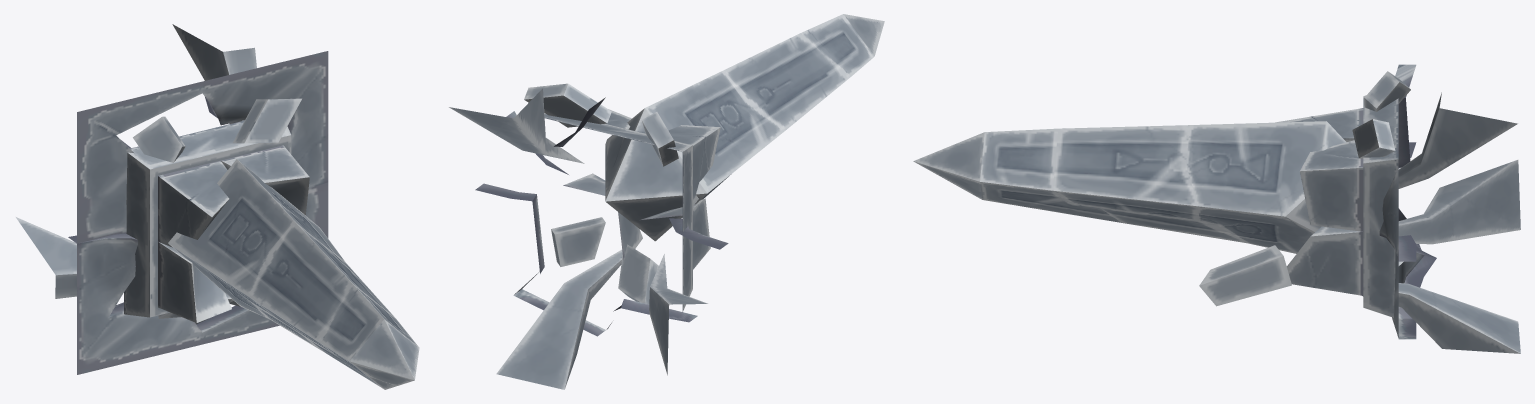
The model's file is obelisk_04.glb.
The picture shows the model from 3 angles, left to right: view 1: azimuth 30°, elevation 25°; view 2: azimuth 150°, elevation 25°; view 3: azimuth 270°, elevation 25°; orthographic projection. The views are drawn at different scales.
Parts seen in each view (by area): view 1: obsidian_obelisk.obelisk_base-MeshSets[ground_broken].Mesh[0, obsidian_obelisk.obelisk-MeshNodes["obelisk"], obsidian_obelisk.obelisk_base-MeshSets[obelisk_base].Mesh[0]; view 2: obsidian_obelisk.obelisk-MeshNodes["obelisk"], obsidian_obelisk.obelisk_base-MeshSets[ground_broken].Mesh[0, obsidian_obelisk.obelisk_base-MeshSets[obelisk_base].Mesh[0]; view 3: obsidian_obelisk.obelisk-MeshNodes["obelisk"], obsidian_obelisk.obelisk_base-MeshSets[ground_broken].Mesh[0, obsidian_obelisk.obelisk_base-MeshSets[obelisk_base].Mesh[0], obsidian_obelisk.chunk_02-MeshNodes["chunk_02"].
Boxes of the visible parts, x1=… form: obsidian_obelisk.obelisk_base-MeshSets[ground_broken].Mesh[0: x1=16, y1=24, x2=328, y2=374; obsidian_obelisk.obelisk-MeshNodes["obelisk"]: x1=168, y1=159, x2=419, y2=389; obsidian_obelisk.obelisk_base-MeshSets[obelisk_base].Mesh[0]: x1=124, y1=120, x2=309, y2=322; obsidian_obelisk.obelisk-MeshNodes["obelisk"]: x1=605, y1=14, x2=884, y2=241; obsidian_obelisk.obelisk_base-MeshSets[ground_broken].Mesh[0: x1=449, y1=83, x2=728, y2=389; obsidian_obelisk.obelisk_base-MeshSets[obelisk_base].Mesh[0]: x1=544, y1=109, x2=720, y2=311; obsidian_obelisk.obelisk-MeshNodes["obelisk"]: x1=913, y1=121, x2=1346, y2=253; obsidian_obelisk.obelisk_base-MeshSets[ground_broken].Mesh[0: x1=1352, y1=64, x2=1520, y2=353; obsidian_obelisk.obelisk_base-MeshSets[obelisk_base].Mesh[0]: x1=1275, y1=95, x2=1398, y2=317; obsidian_obelisk.chunk_02-MeshNodes["chunk_02"]: x1=1199, y1=245, x2=1291, y2=306.
Size of the model in its own units: 2 by 2.03 by 4.3.
Materials: 1 (1 with a texture image).
